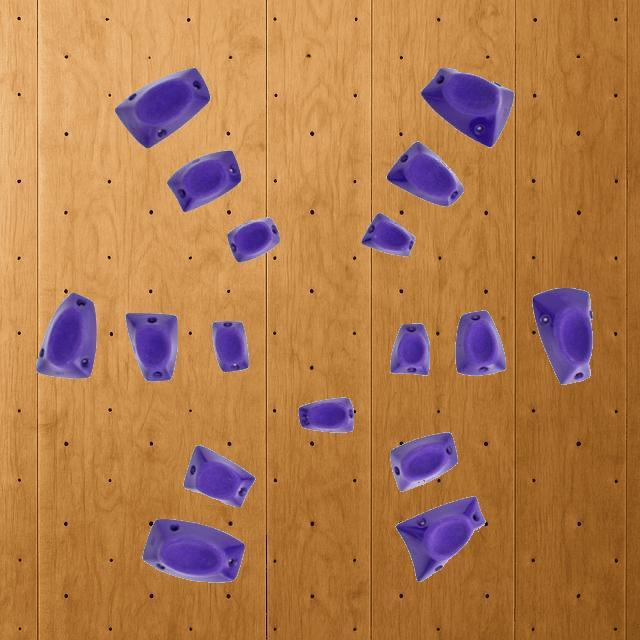Sloper: (394, 494, 486, 582), (114, 66, 210, 148), (420, 66, 514, 146), (142, 518, 245, 582), (532, 287, 594, 385), (36, 291, 96, 379), (386, 140, 464, 206), (167, 148, 241, 212), (183, 444, 255, 508), (389, 431, 458, 492), (125, 312, 178, 381), (454, 309, 506, 375), (360, 212, 416, 256), (227, 216, 280, 262), (390, 323, 430, 375), (298, 396, 354, 432), (212, 320, 248, 372)
